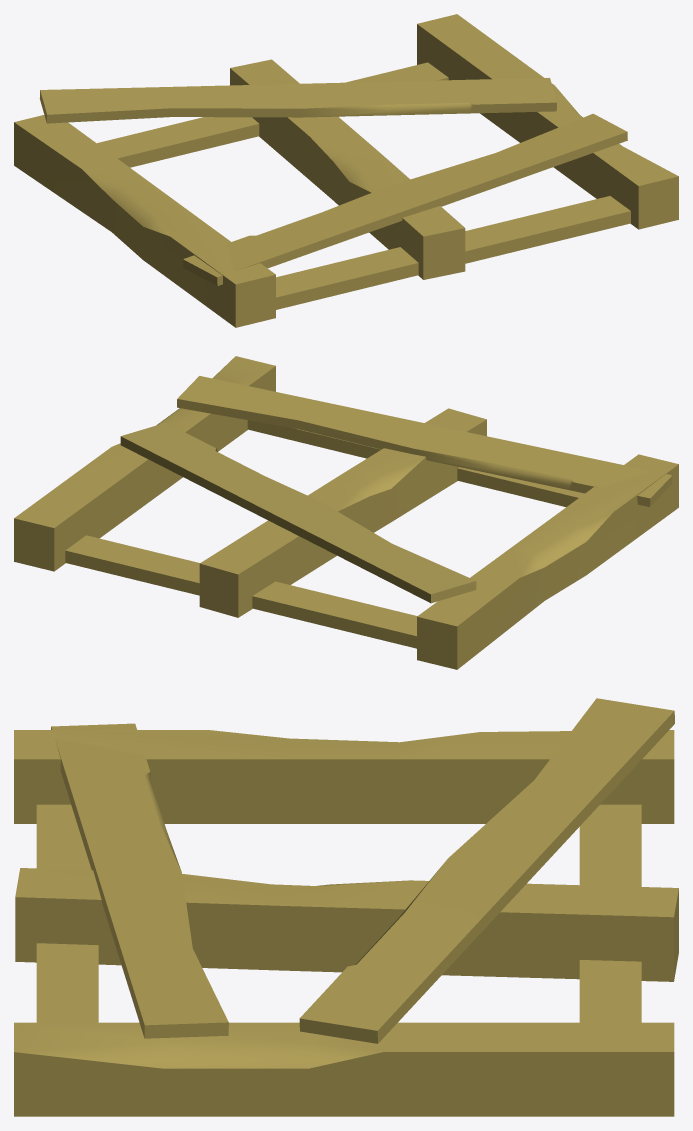
The model's file is WoodenPile.fbx.
The picture shows the model from 3 angles, top to bottom: view 1: azimuth 30°, elevation 25°; view 2: azimuth 150°, elevation 25°; view 3: azimuth 270°, elevation 25°; orthographic projection. The views are drawn at different scales.
Parts seen in each view (by area): view 1: pCube4, pCube6, pCube7, pCube3, pCube2, pCube1, pCube5; view 2: pCube4, pCube7, pCube3, pCube6, pCube2, pCube5, pCube1; view 3: pCube2, pCube4, pCube3, pCube6, pCube7, pCube5, pCube1.
Boxes of the visible parts, left/top/right/bottom form: pCube4: left=14, top=115, right=275, bottom=327; pCube6: left=39, top=77, right=556, bottom=123; pCube7: left=183, top=113, right=627, bottom=286; pCube3: left=230, top=59, right=465, bottom=279; pCube2: left=417, top=14, right=678, bottom=229; pCube1: left=276, top=196, right=630, bottom=309; pCube5: left=97, top=62, right=448, bottom=167; pCube4: left=417, top=454, right=678, bottom=669; pCube7: left=177, top=376, right=672, bottom=506; pCube3: left=199, top=408, right=486, bottom=617; pCube6: left=120, top=422, right=476, bottom=603; pCube2: left=14, top=356, right=275, bottom=571; pCube5: left=65, top=535, right=417, bottom=648; pCube1: left=247, top=420, right=584, bottom=506; pCube2: left=14, top=1022, right=674, bottom=1116; pCube4: left=14, top=730, right=674, bottom=823; pCube3: left=15, top=868, right=678, bottom=981; pCube6: left=299, top=698, right=674, bottom=1043; pCube7: left=51, top=723, right=228, bottom=1038; pCube5: left=579, top=804, right=641, bottom=1022; pCube1: left=36, top=804, right=98, bottom=1022.
Size of the model in its own units: 3.35 by 0.4863 by 2.84.
